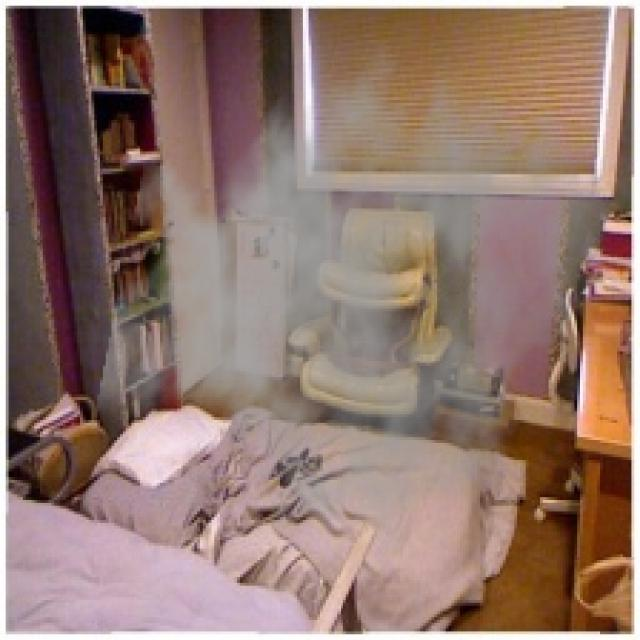smoke: (94, 20, 612, 554)
